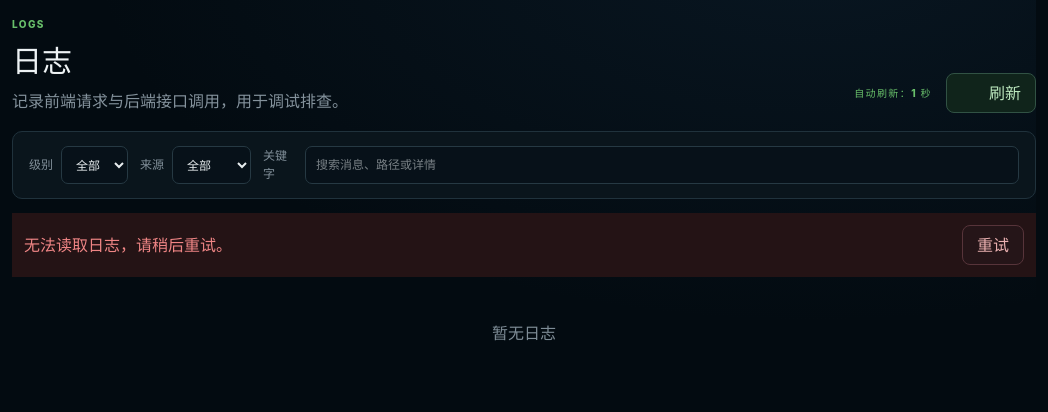
Scenario: LogsView › shows an error state with a retry button and recovers
Check: the text "无法读取日志，请稍后重试。" is shown, box [24,235,232,255]
Click the button "重试" at (993, 245), box [962,225,1024,265]
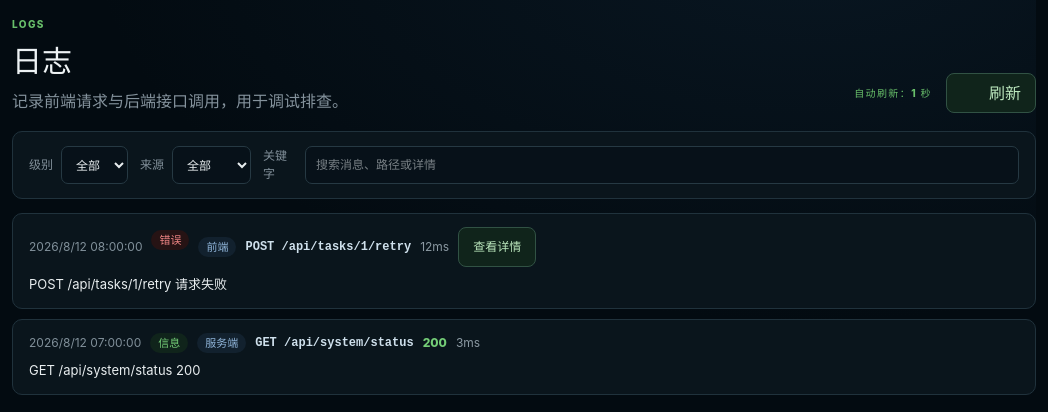
Check: the text "POST /api/tasks/1/retry 请求失败" is shown, box [29,276,227,292]
